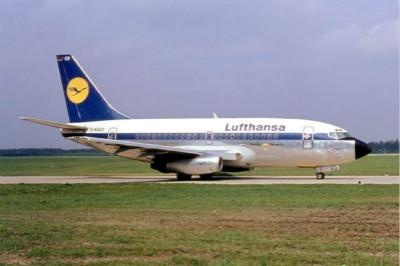airplane: (18, 51, 372, 181)
